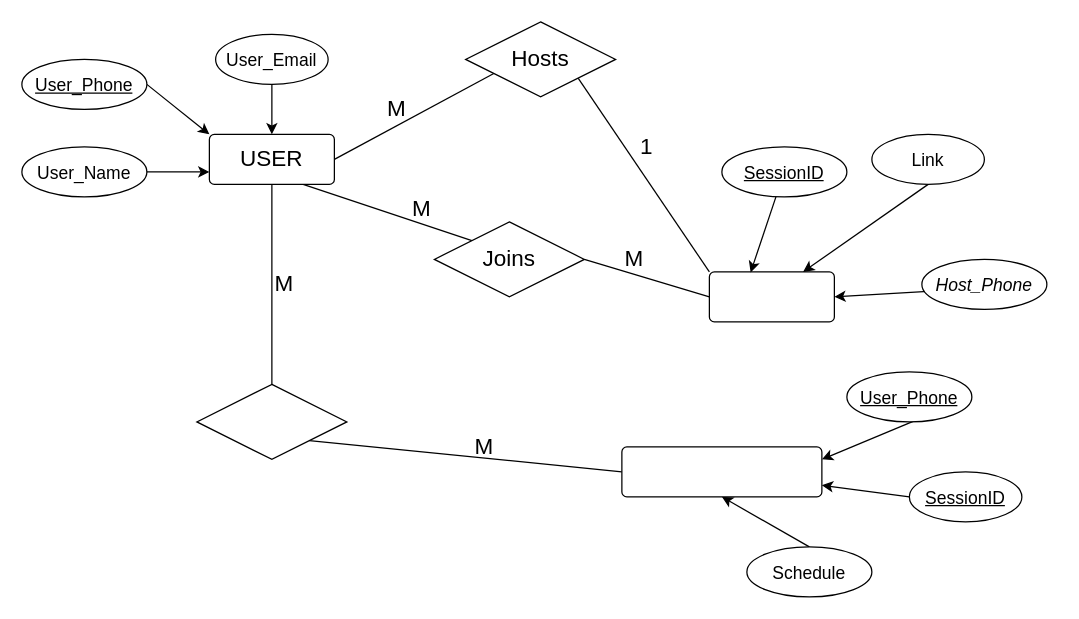
The diagram is 1079 pixels wide and 619 high, and some of its shapes have lost their labels. Each missing label, with the centre of its shape:
Has: pixel 271 421
Joined_Sessions: pixel 721 471
Session: pixel 771 296
